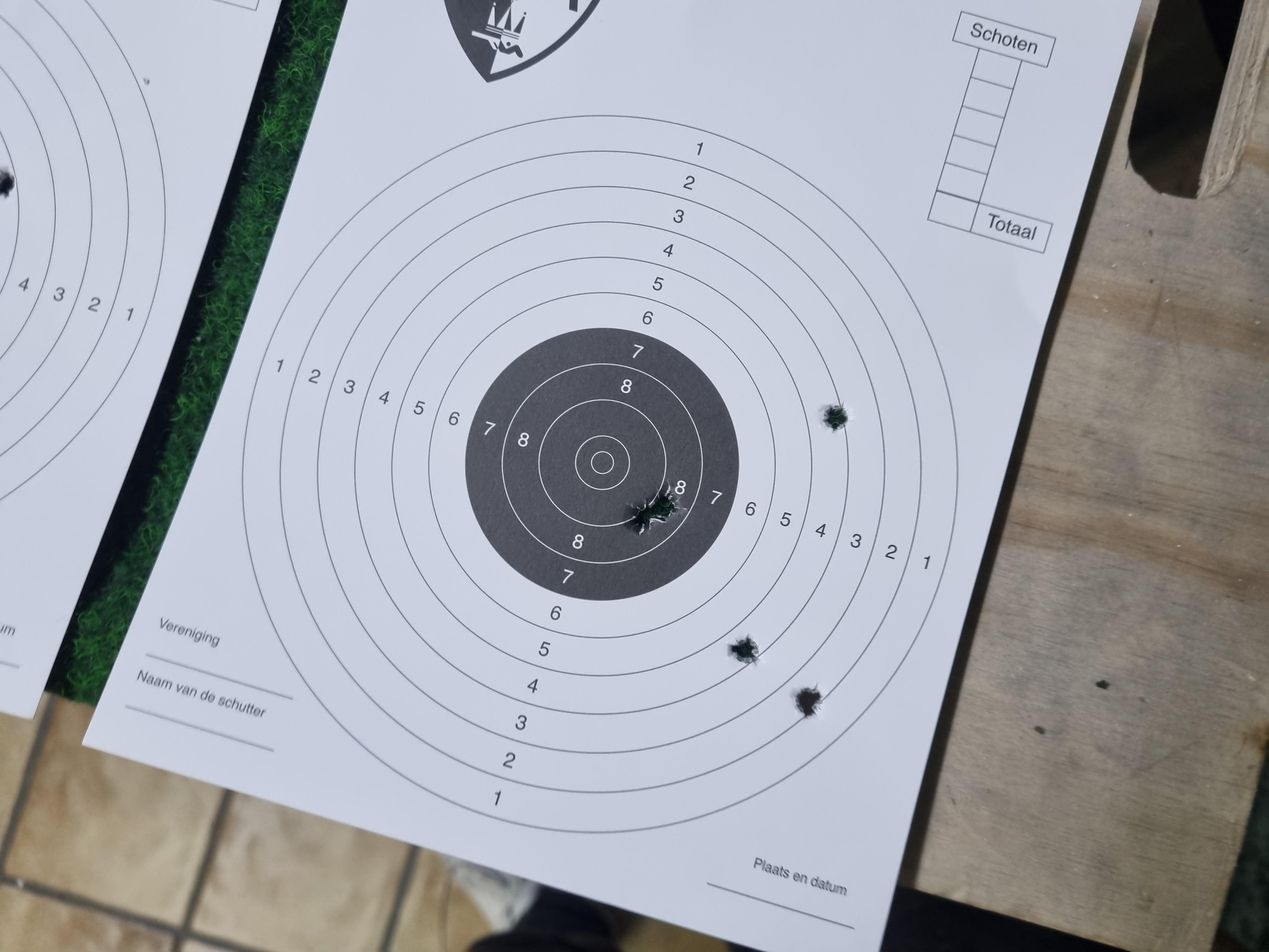hole: (381, 545, 422, 571), (556, 470, 601, 491), (577, 489, 623, 509), (311, 596, 354, 617), (692, 617, 734, 637), (1004, 0, 1043, 11)
